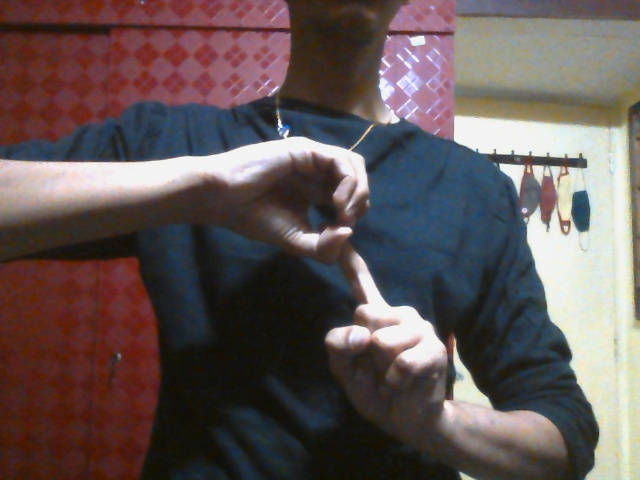Q: (208, 136, 447, 439)
